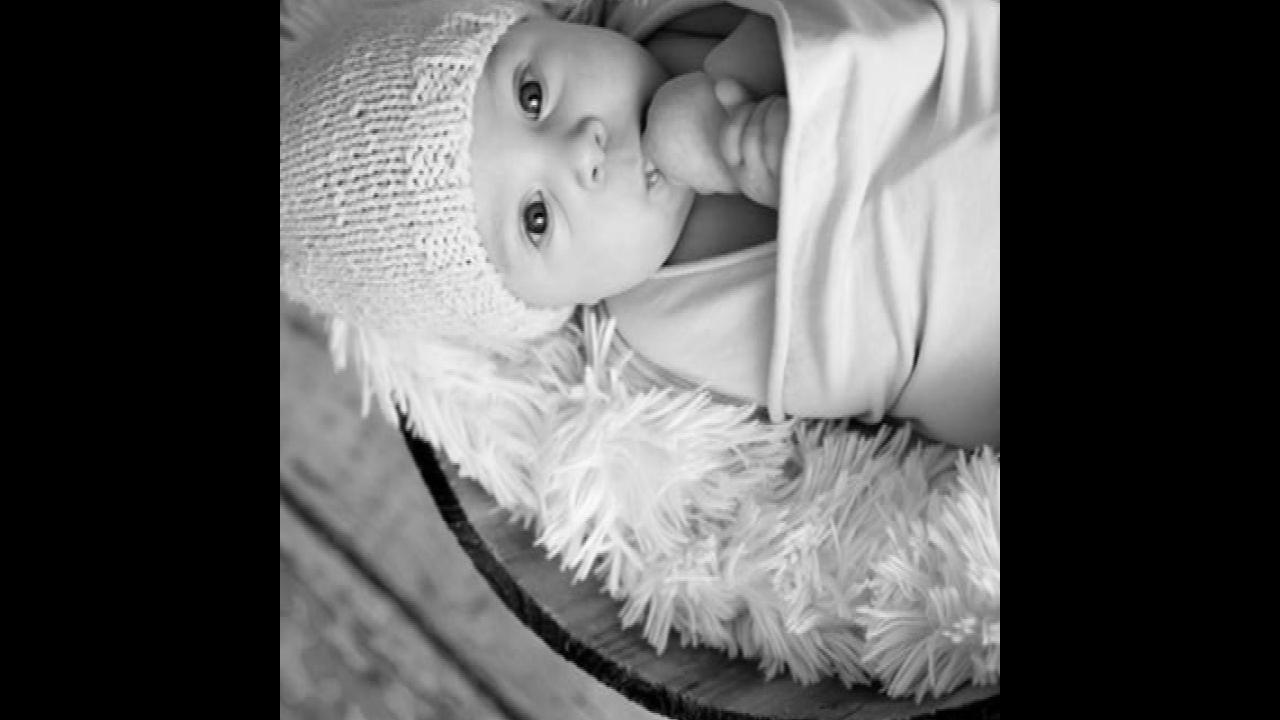hand: (717, 67, 797, 221), (644, 65, 714, 197)
